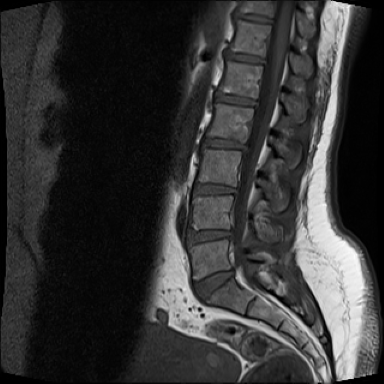Lumbar Disc Bulge (LDB): (205, 222, 267, 266), (198, 175, 265, 202)
Normal IVD: (230, 264, 277, 313), (219, 74, 277, 102), (208, 125, 268, 149), (229, 30, 283, 53)
Spinal Stenosis (SS): (246, 174, 264, 202), (247, 221, 264, 246)
